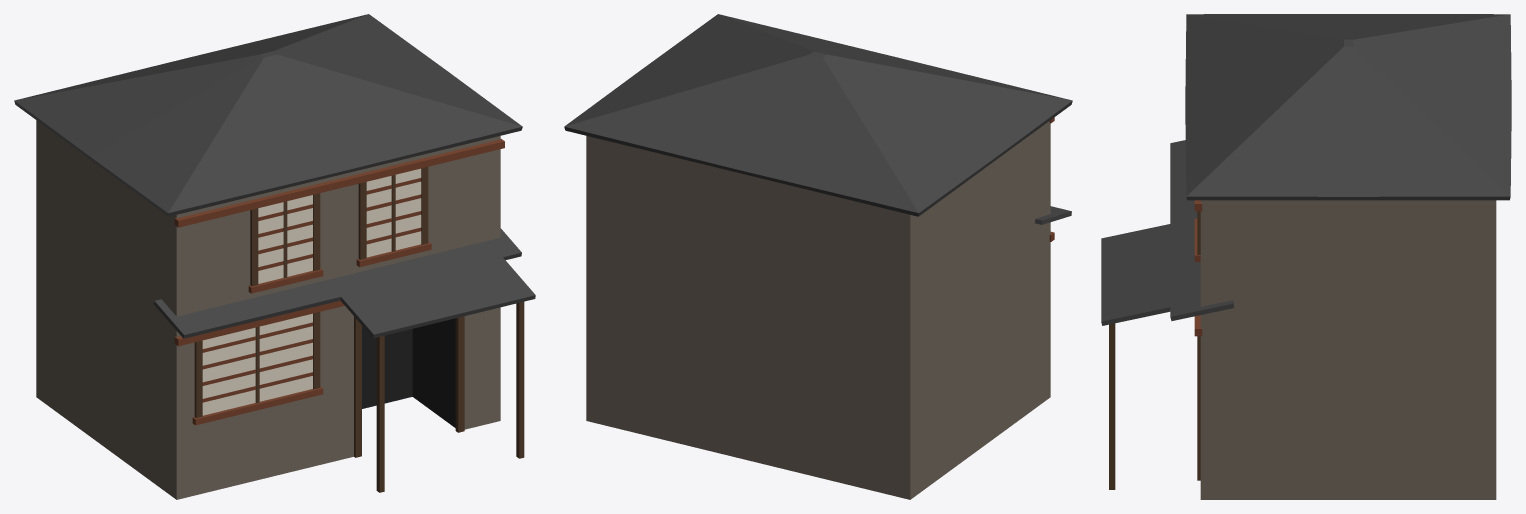
The model's file is H02_House.fbx.
The picture shows the model from 3 angles, left to right: view 1: azimuth 30°, elevation 25°; view 2: azimuth 150°, elevation 25°; view 3: azimuth 270°, elevation 25°; orthographic projection. The views are drawn at different scales.
Parts seen in each view (by area): view 1: H02_Main, H02_Roof_Top, H02_Roof_Bottom, Cube.005, Cube.001, H02_Window_TopRail, Cube.003, Cube.002, Cube, H02_Window_TopRail.001; view 2: H02_Main, H02_Roof_Top; view 3: H02_Main, H02_Roof_Top, H02_Roof_Bottom, Cube.002, Cube.003.
Part boxes in pixels (<box>): H02_Main: <box>36,120,500,499</box>; H02_Roof_Top: <box>14,14,522,216</box>; H02_Roof_Bottom: <box>154,228,535,338</box>; Cube.005: <box>248,167,431,293</box>; Cube.001: <box>192,312,323,425</box>; H02_Window_TopRail: <box>174,139,504,227</box>; Cube.003: <box>354,316,464,457</box>; Cube.002: <box>516,301,524,458</box>; Cube: <box>376,335,384,492</box>; H02_Window_TopRail.001: <box>174,300,344,346</box>; H02_Main: <box>586,121,1050,499</box>; H02_Roof_Top: <box>564,14,1072,216</box>; H02_Main: <box>1200,200,1496,499</box>; H02_Roof_Top: <box>1185,14,1511,200</box>; H02_Roof_Bottom: <box>1101,140,1233,325</box>; Cube.002: <box>1109,323,1115,489</box>; Cube.003: <box>1197,336,1200,480</box>.
Size of the model in its own units: 439 by 419 by 417.
